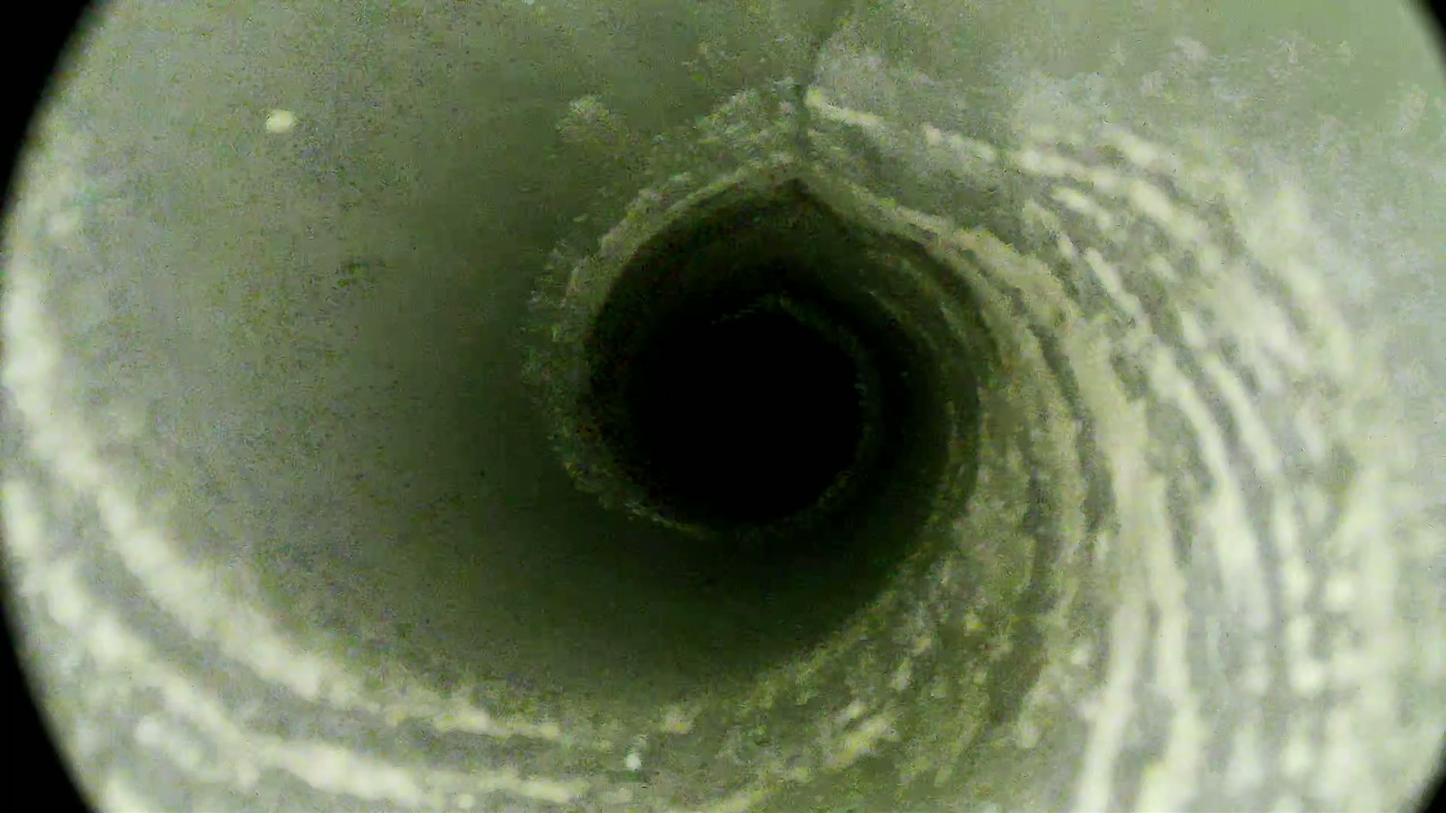hole: (657, 314, 860, 518)
